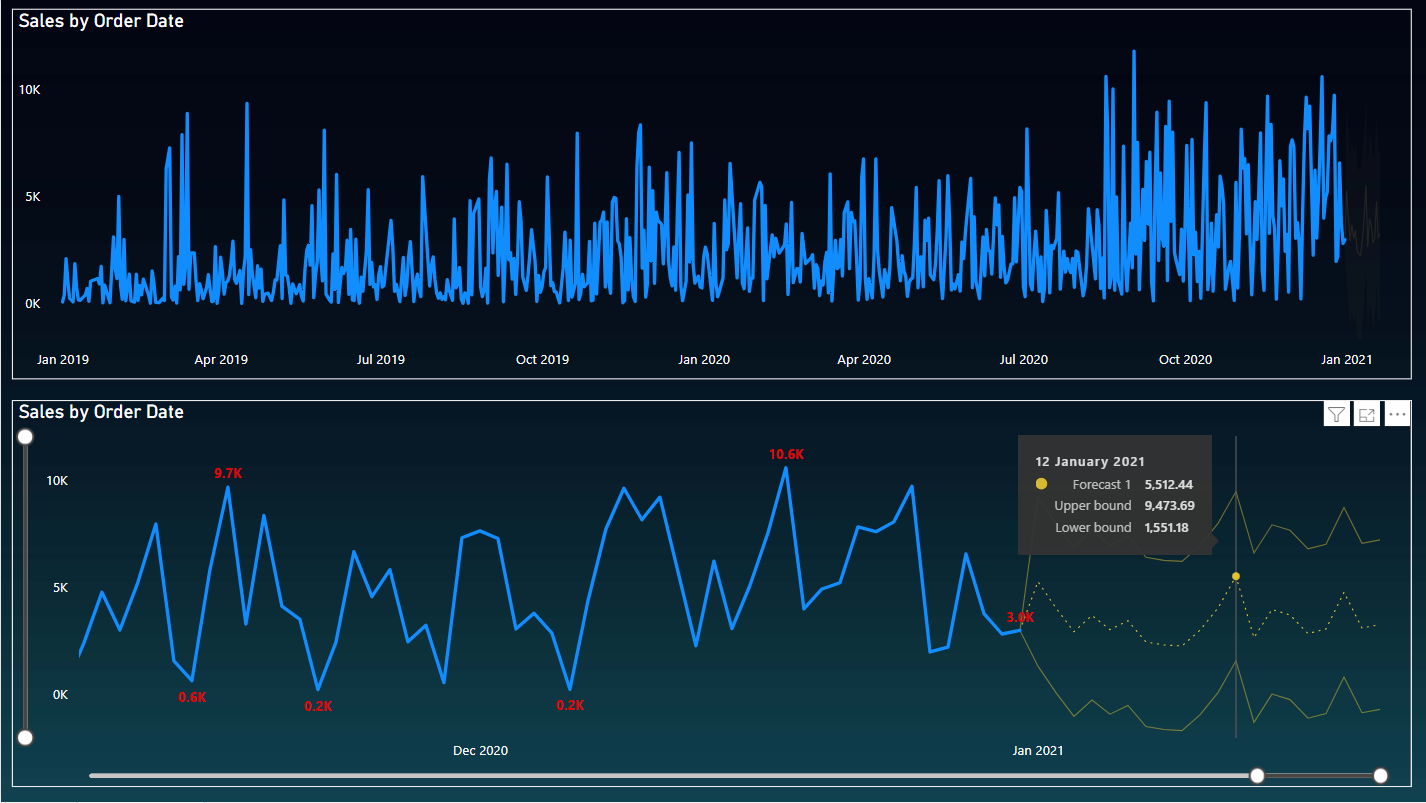

This screenshot's page, from the dashboard's own definition file:
{"tool":"powerbi","page":{"name":"Sales Forecast","canvas":[1280,720],"ordinal":1},"visuals":[{"type":"lineChart","title":"Sales by Order Date","fields":{"Y":["Sum(SuperStore_Sales_Dataset (1).Sales)"],"Category":["SuperStore_Sales_Dataset (1).Order Date"]},"box":[9.8,7.8,1257.5,333],"z":0},{"type":"lineChart","title":"Sales by Order Date","fields":{"Y":["Sum(SuperStore_Sales_Dataset (1).Sales)"],"Category":["SuperStore_Sales_Dataset (1).Order Date"]},"box":[9.8,359.4,1257.5,347.7],"z":1000}]}

Visuals, with their boxes in screenshot pixels (x1, y1, x2, y2), scaled from the page's 1280x720 canvas onto the 1426x803 screenshot:
"Sales by Order Date" lineChart: [11, 9, 1412, 380]
"Sales by Order Date" lineChart: [11, 401, 1412, 789]
